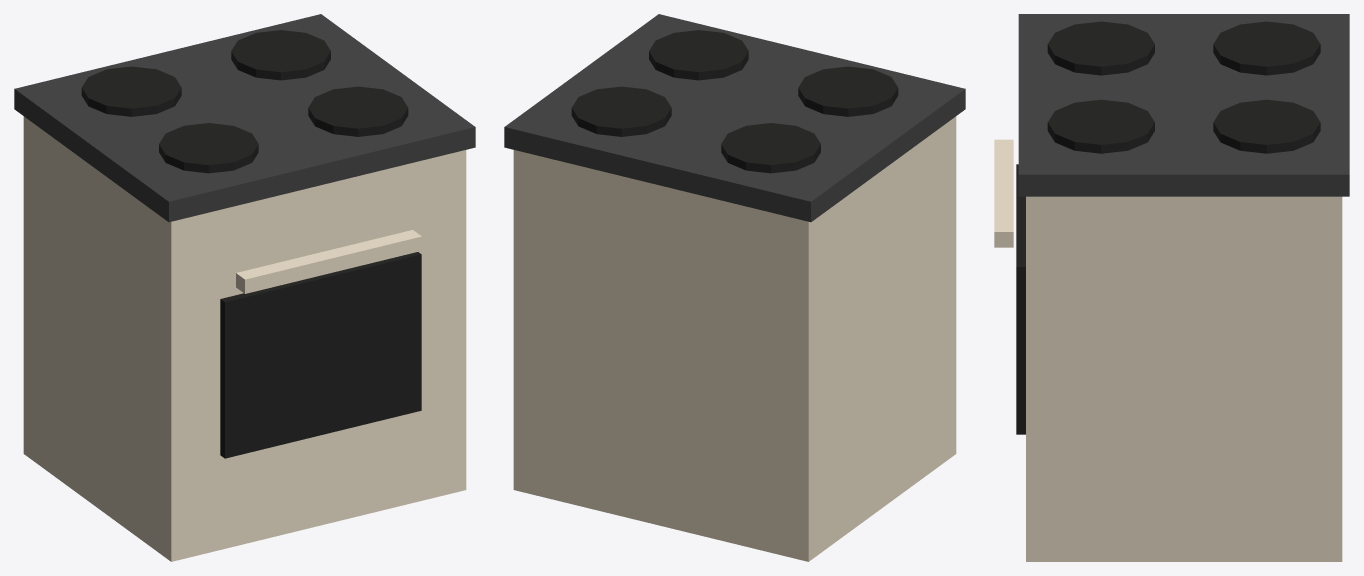
The picture shows the model from 3 angles, left to right: view 1: azimuth 30°, elevation 25°; view 2: azimuth 150°, elevation 25°; view 3: azimuth 270°, elevation 25°; orthographic projection. The views are drawn at different scales.
Visible parts, largest first — view 1: Stove, Hob, Oven window, Door handle, Burner.002, Burner.001, Burner.003, Burner; view 2: Stove, Hob, Burner.003, Burner, Burner.002, Burner.001; view 3: Stove, Hob, Burner.002, Burner.001, Burner, Burner.003, Oven window, Door handle.
Boxes of the visible parts, x1,y1,x2,y2 form: Stove: (23, 116, 466, 561); Hob: (14, 14, 475, 222); Oven window: (220, 252, 421, 458); Door handle: (236, 230, 421, 293); Burner.002: (308, 86, 408, 136); Burner.001: (81, 66, 181, 116); Burner.003: (231, 30, 330, 80); Burner: (159, 123, 258, 173); Stove: (513, 116, 956, 561); Hob: (504, 14, 965, 222); Burner.003: (571, 86, 671, 136); Burner: (798, 66, 898, 116); Burner.002: (649, 30, 748, 80); Burner.001: (721, 123, 820, 173); Stove: (1026, 196, 1342, 561); Hob: (1018, 14, 1349, 196); Burner.002: (1047, 99, 1154, 153); Burner.001: (1213, 21, 1320, 75); Burner: (1047, 21, 1154, 75); Burner.003: (1213, 99, 1320, 153); Oven window: (1016, 164, 1025, 434); Door handle: (994, 139, 1013, 247).
Bounding box in the file's own units: 78 × 91 × 73.
